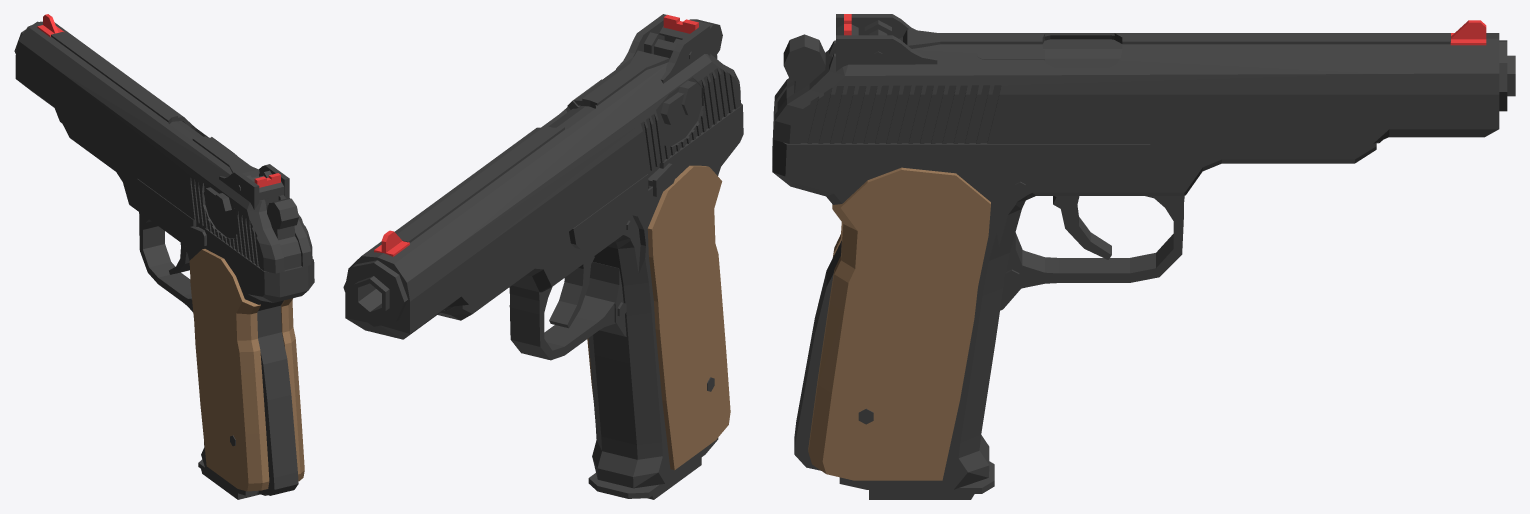
Rendered from pistol_2.glb.
The picture shows the model from 3 angles, left to right: view 1: azimuth 30°, elevation 25°; view 2: azimuth 150°, elevation 25°; view 3: azimuth 270°, elevation 25°; orthographic projection. The views are drawn at different scales.
Parts seen in each view (by area): view 1: p2_paint, p18_accent, p6_paint, p7_paint, p17_accent, p4_paint, p32_paint, p11_paint, p23_paint, p21_paint, p16_paint, p28_paint; view 2: p2_paint, p6_paint, p18_accent, p7_paint, p4_paint, p1_paint, p13_paint, p9_paint, p11_paint, p23_paint, p16_paint, p0_paint (+8 smaller); view 3: p2_paint, p17_accent, p6_paint, p7_paint, p4_paint, p22_paint, p8_paint, p32_paint, p11_paint, p16_paint, p9_paint, p23_paint (+1 smaller).
Boxes of the visible parts, left/top/right/bottom form: p2_paint: left=15, top=21, right=312, bottom=273; p18_accent: left=189, top=249, right=269, bottom=491; p6_paint: left=62, top=124, right=314, bottom=495; p7_paint: left=139, top=212, right=193, bottom=312; p17_accent: left=281, top=298, right=304, bottom=481; p4_paint: left=51, top=32, right=177, bottom=123; p32_paint: left=267, top=198, right=301, bottom=269; p11_paint: left=192, top=136, right=259, bottom=178; p23_paint: left=219, top=171, right=259, bottom=209; p21_paint: left=203, top=187, right=231, bottom=218; p16_paint: left=198, top=459, right=260, bottom=499; p28_paint: left=259, top=181, right=284, bottom=200; p2_paint: left=345, top=54, right=740, bottom=339; p6_paint: left=437, top=103, right=743, bottom=488; p18_accent: left=647, top=165, right=730, bottom=470; p7_paint: left=509, top=285, right=615, bottom=360; p4_paint: left=397, top=126, right=564, bottom=242; p1_paint: left=343, top=260, right=407, bottom=326; p13_paint: left=585, top=262, right=626, bottom=336; p9_paint: left=549, top=256, right=594, bottom=328; p11_paint: left=582, top=50, right=669, bottom=108; p23_paint: left=660, top=24, right=710, bottom=83; p16_paint: left=588, top=457, right=701, bottom=499; p0_paint: left=354, top=276, right=389, bottom=316; p2_paint: left=773, top=33, right=1499, bottom=143; p17_accent: left=808, top=167, right=990, bottom=480; p6_paint: left=772, top=121, right=1376, bottom=489; p7_paint: left=1021, top=196, right=1184, bottom=288; p4_paint: left=1114, top=33, right=1450, bottom=44; p22_paint: left=836, top=35, right=937, bottom=71; p8_paint: left=1042, top=39, right=1122, bottom=67; p32_paint: left=777, top=34, right=825, bottom=110; p11_paint: left=899, top=29, right=1044, bottom=48; p16_paint: left=869, top=461, right=994, bottom=499; p9_paint: left=1053, top=196, right=1111, bottom=259; p23_paint: left=836, top=14, right=916, bottom=38.
Size of the model in its own units: 0.0291 by 0.1545 by 0.225.
